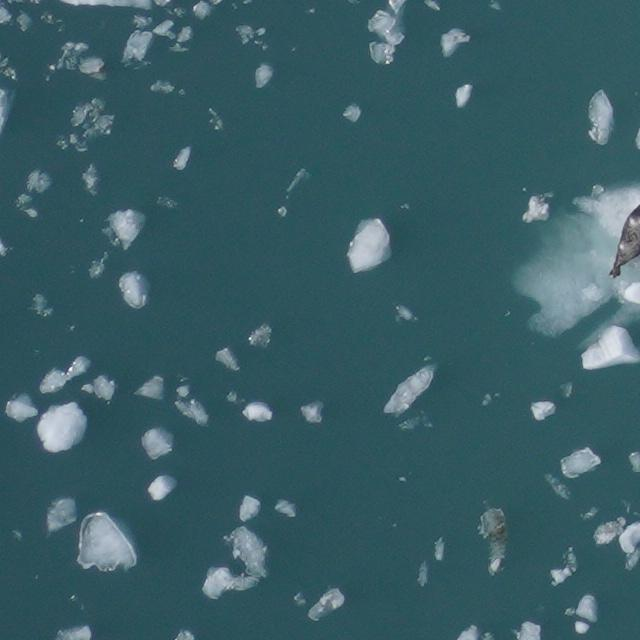seal: (607, 201, 639, 279)
